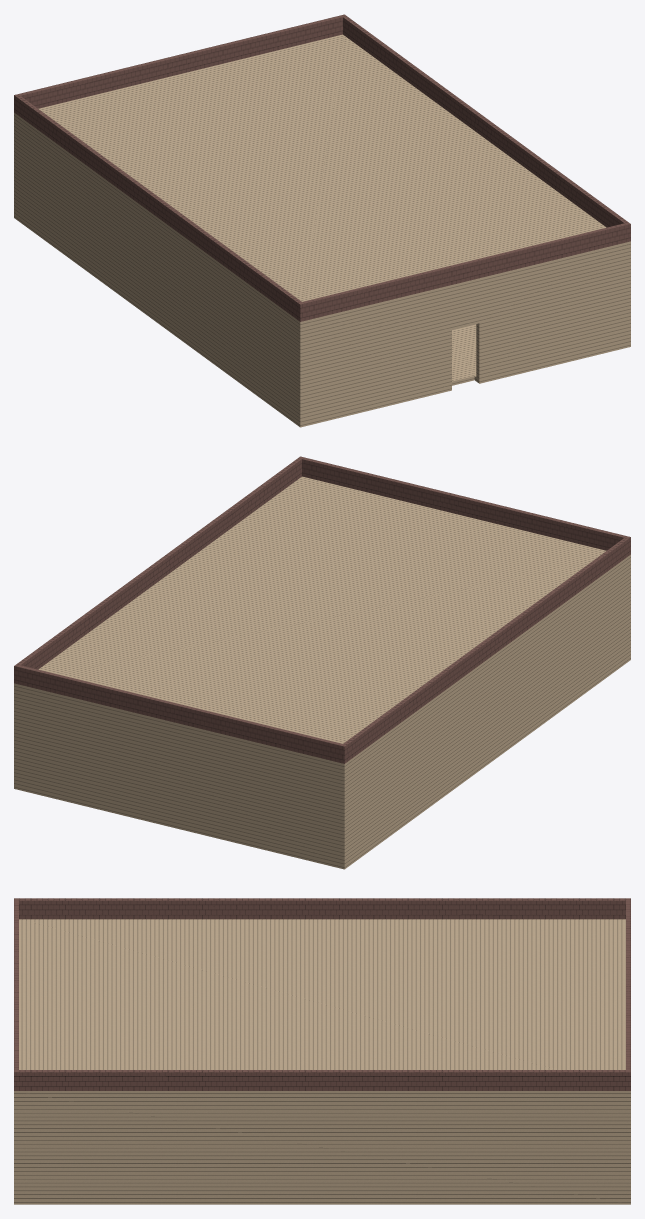
File: veterinary_clinic.glb
The picture shows the model from 3 angles, top to bottom: view 1: azimuth 30°, elevation 25°; view 2: azimuth 150°, elevation 25°; view 3: azimuth 270°, elevation 25°; orthographic projection. The views are drawn at different scales.
Visible parts, largest first — view 1: veterinary_clinic-col; view 2: veterinary_clinic-col; view 3: veterinary_clinic-col.
Part boxes in pixels (box(x1,y1,x2,y2)): veterinary_clinic-col: box(14, 14, 630, 427); veterinary_clinic-col: box(14, 456, 630, 869); veterinary_clinic-col: box(14, 898, 630, 1204).
Bounding box in the file's own units: 12 × 4.26 × 18.
2 materials, 2 textured.
